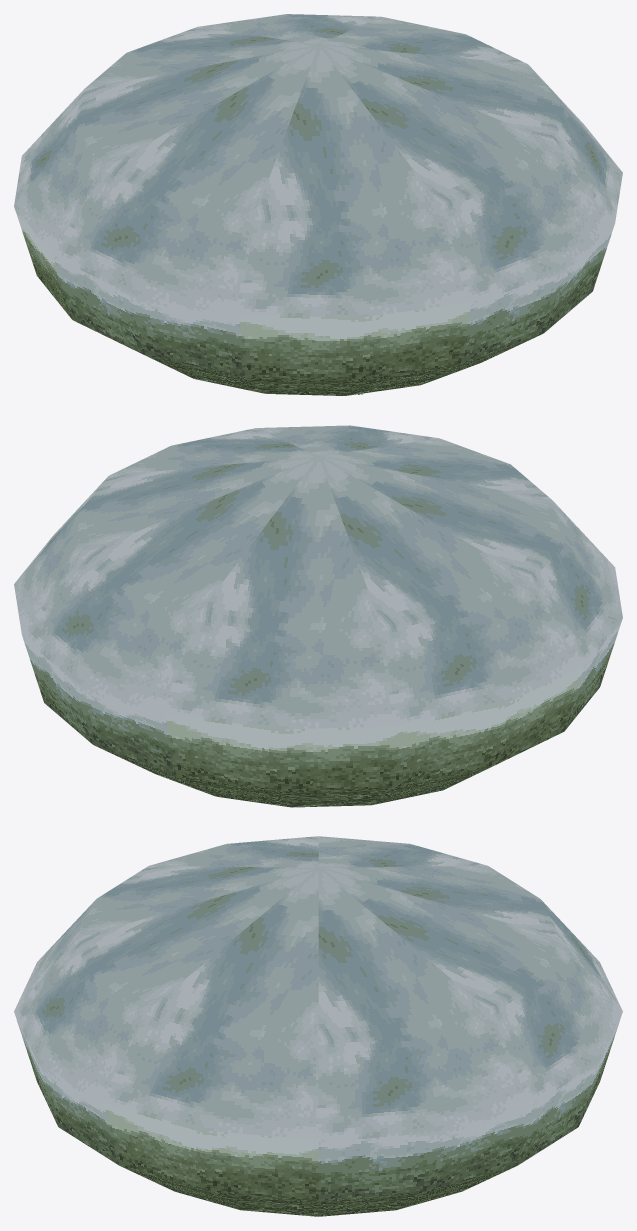
The picture shows the model from 3 angles, top to bottom: view 1: azimuth 30°, elevation 25°; view 2: azimuth 150°, elevation 25°; view 3: azimuth 270°, elevation 25°; orthographic projection.
Bounding box in the file's own units: 61154 × 33625 × 61153.
Materials: 23 (22 with a texture image).
